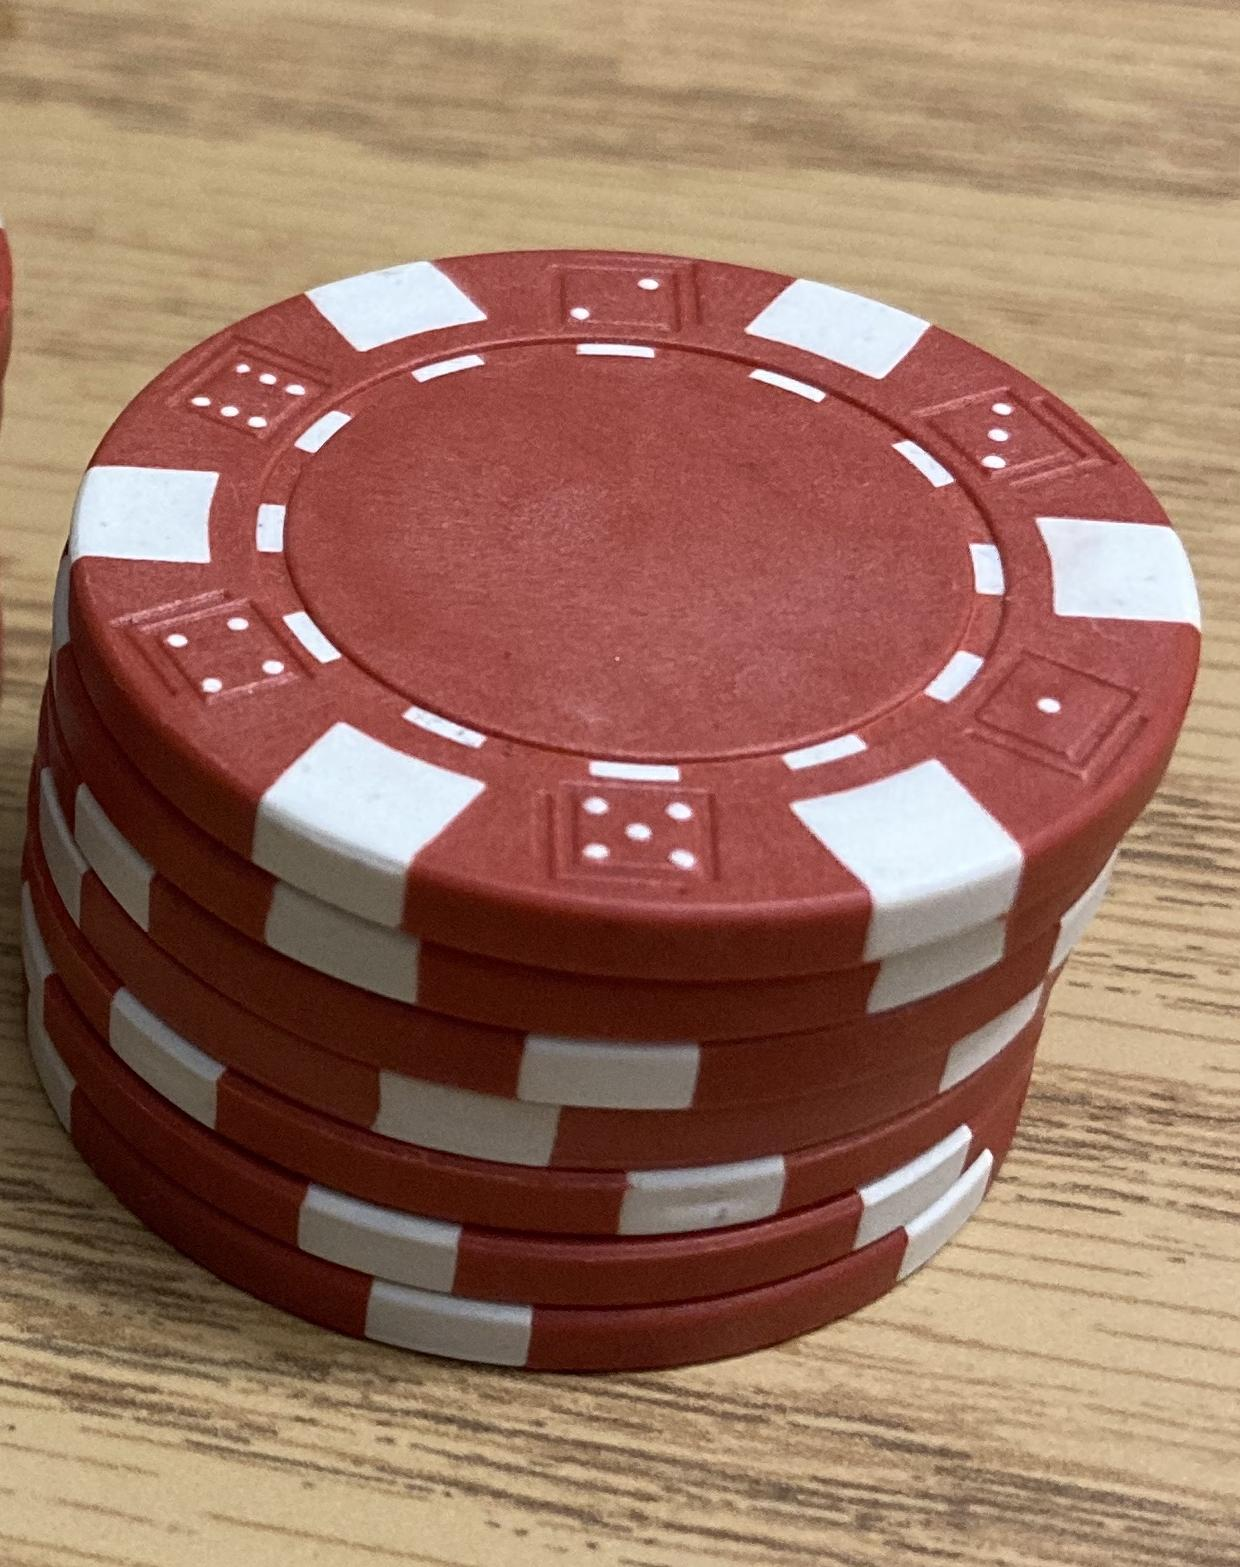Chip: (1, 1, 1240, 1567)
